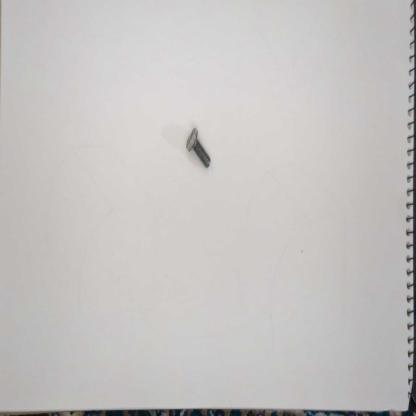Bolts: (184, 124, 214, 172)
